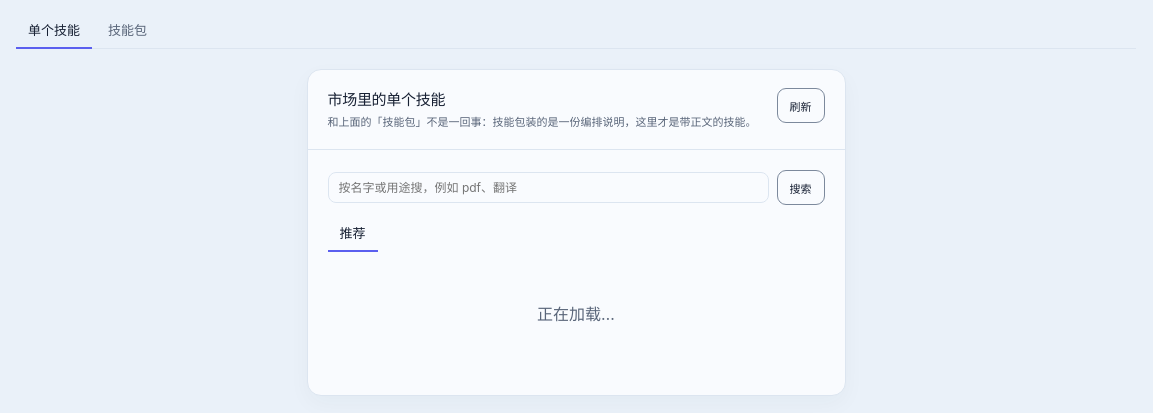
Scenario: 技能市场 · 技能包 › 上游真的返回 0 个时，明说这是上游说的
This screenshot has width=1153, height=413.
Click the tab with test id "hub-tab-pack" at (128, 30), box [96,12,159,49]
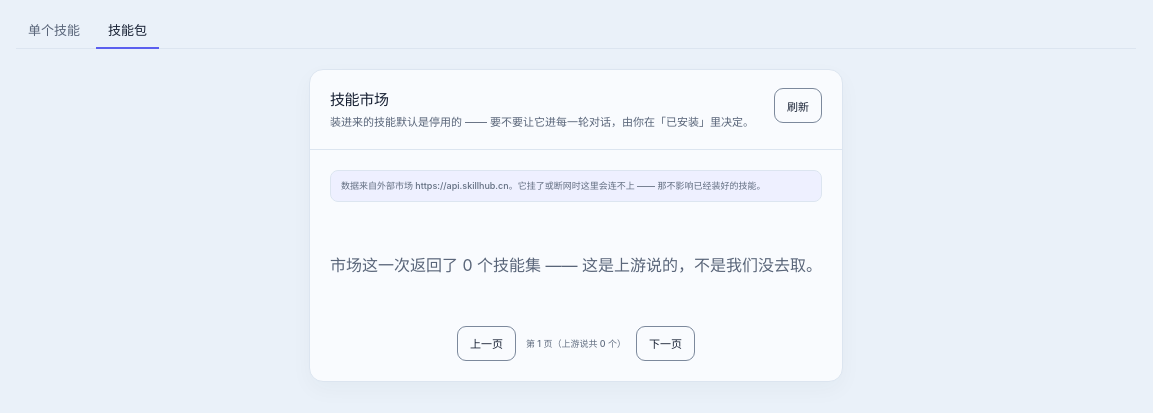
Now the text "市场这一次返回了 0 个技能集 —— 这是上游说的，不是我们没去取。" is shown, box [330,252,822,276]
